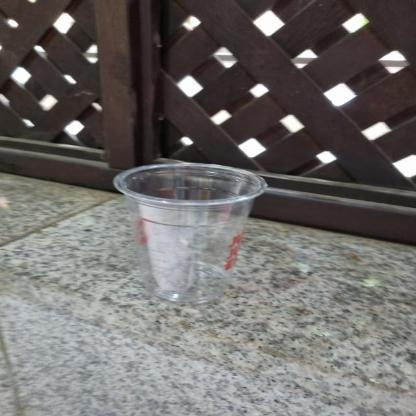Plastic Cup: (108, 158, 272, 310)
